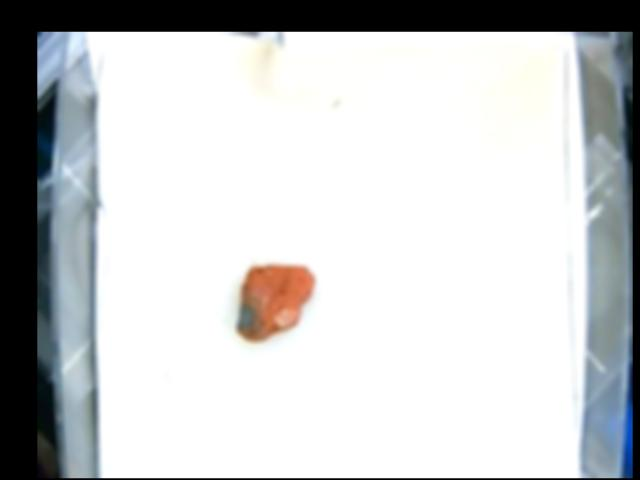Brisk: (234, 265, 317, 342)
